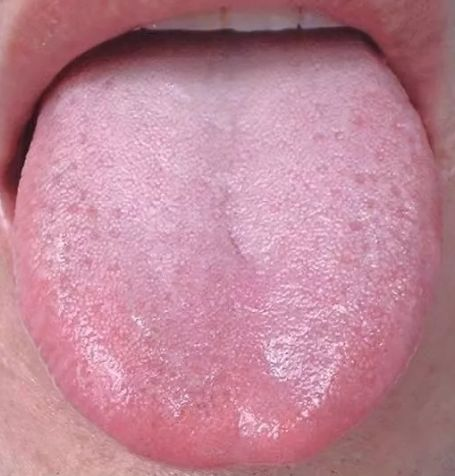baitaishe: (13, 33, 443, 469)
